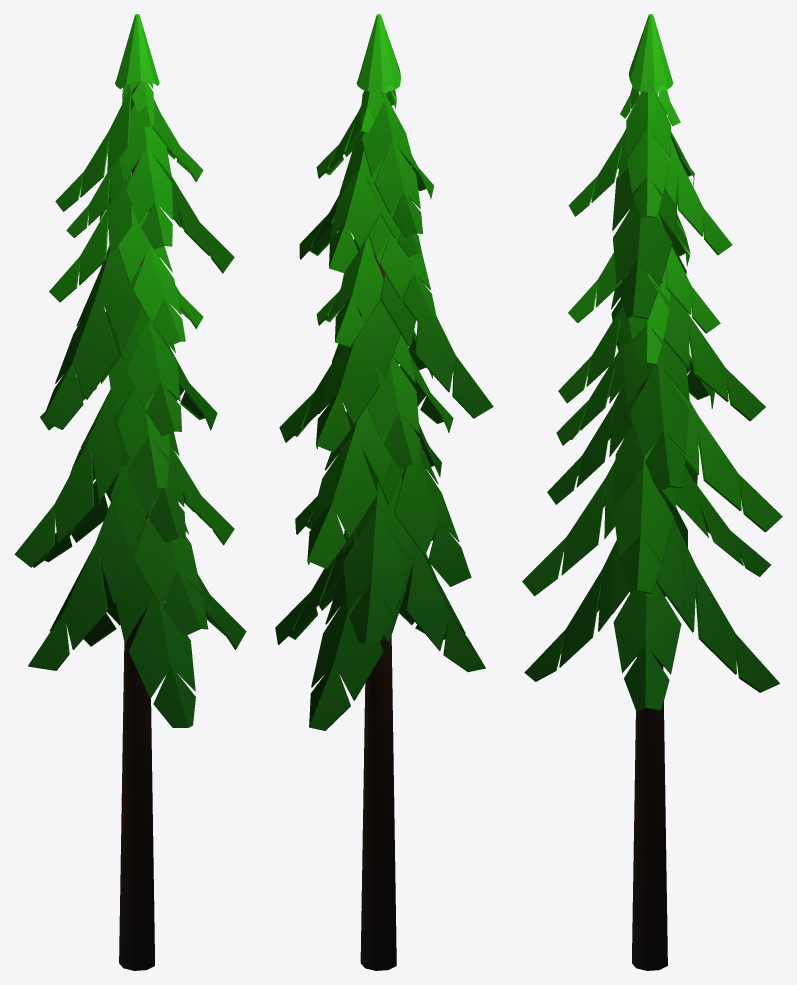
Rendered from Tree8.glb.
3 renders of one model, left to right at view 1: azimuth 30°, elevation 25°; view 2: azimuth 150°, elevation 25°; view 3: azimuth 270°, elevation 25°, orthographic.
Visible parts, largest first — view 1: Tree.002; view 2: Tree.002; view 3: Tree.002.
Boxes of the visible parts, box(x1,y1,x2,y2) form: Tree.002: box(14, 14, 246, 970); Tree.002: box(275, 14, 493, 970); Tree.002: box(522, 14, 782, 970).
Bounding box in the file's own units: 4.21 × 17.73 × 4.42.
Materials: 2 (2 with a texture image).
